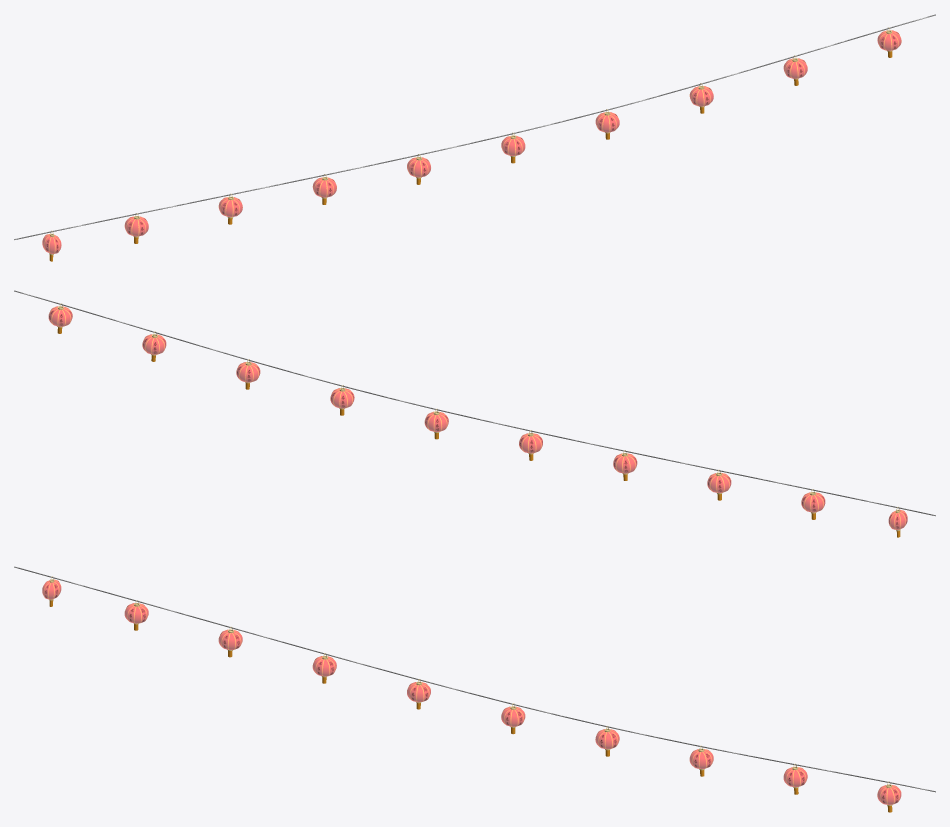
The model's file is SM_lamp_spline_Splines_11.fbx.
3 views of the same model, one above another, from view 1: azimuth 30°, elevation 25°; view 2: azimuth 150°, elevation 25°; view 3: azimuth 330°, elevation 25° (orthographic).
Parts seen in each view (by area): view 1: SM_lamp_spline_Splines_11; view 2: SM_lamp_spline_Splines_11; view 3: SM_lamp_spline_Splines_11.
Part boxes in pixels (bbox=[...]): SM_lamp_spline_Splines_11: bbox=[14, 14, 935, 261]; SM_lamp_spline_Splines_11: bbox=[14, 290, 935, 537]; SM_lamp_spline_Splines_11: bbox=[14, 566, 935, 812].
Bounding box in the file's own units: 2450 × 53.35 × 115.
